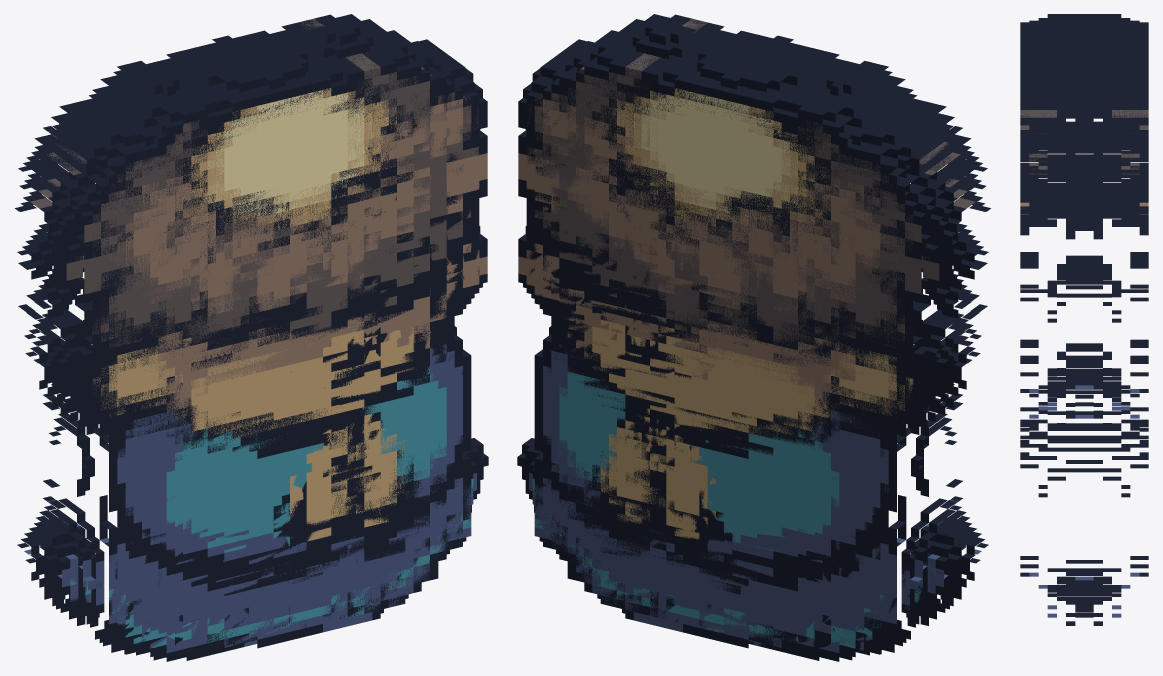
The model's file is clerigo_parado.glb.
The picture shows the model from 3 angles, left to right: view 1: azimuth 30°, elevation 25°; view 2: azimuth 150°, elevation 25°; view 3: azimuth 270°, elevation 25°; orthographic projection. The views are drawn at different scales.
Parts seen in each view (by area): view 1: q0, q1, q3, q2, q4, q5; view 2: q0, q1, q3, q4, q2, q5; view 3: q0, q5, q1, q3, q2, q4.
Part boxes in pixels (<box>): q0: <box>32,14,480,660</box>; q1: <box>21,30,487,650</box>; q3: <box>23,45,471,654</box>; q2: <box>17,81,479,661</box>; q4: <box>15,42,483,652</box>; q5: <box>23,19,488,660</box>; q0: <box>525,14,973,660</box>; q1: <box>518,30,984,648</box>; q3: <box>534,43,982,654</box>; q4: <box>522,42,990,652</box>; q2: <box>526,46,988,661</box>; q5: <box>517,19,982,660</box>; q0: <box>1020,16,1148,625</box>; q5: <box>1020,14,1148,604</box>; q1: <box>1020,28,1148,625</box>; q3: <box>1020,117,1148,600</box>; q2: <box>1020,117,1148,437</box>; q4: <box>1020,78,1148,616</box>.
Size of the model in its own units: 55 by 67 by 14.
1 material, 1 textured.
